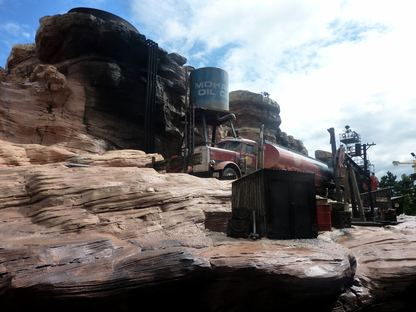truck: (169, 122, 349, 197)
